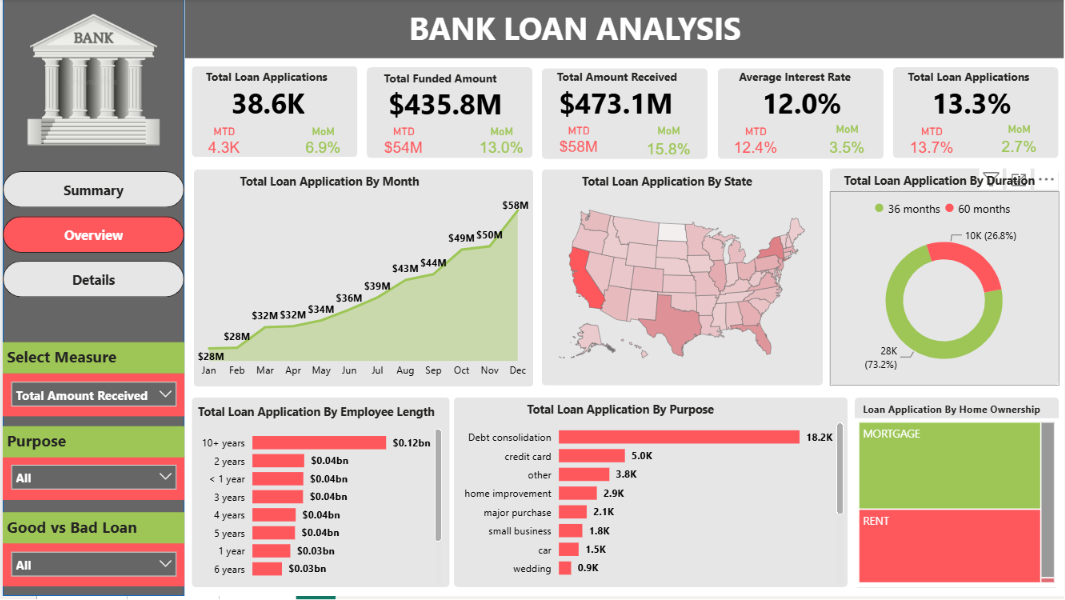

The page's visual inventory and layout, read from the dashboard file:
{"tool":"powerbi","page":{"name":"Overview","canvas":[1280,720],"ordinal":1},"visuals":[{"type":"shape","box":[0,0,219.3,719.9],"z":0},{"type":"shape","box":[219.6,0,1060.5,71.2],"z":1000},{"type":"textbox","box":[485,4.8,439.1,60.3],"z":2000},{"type":"shape","box":[228,80.8,200,109.8],"z":3000},{"type":"cardVisual","fields":{"Data":["bank_project financial_loan.Total Loan Application"]},"box":[230.2,96.8,179.8,53.1],"z":4000},{"type":"textbox","box":[239.8,79.9,161.7,32.6],"z":5000},{"type":"cardVisual","title":"MTD","fields":{"Data":["bank_project financial_loan.MTD Loan Application"]},"box":[230.4,152,73.6,38.6],"z":6000},{"type":"shape","box":[439.4,82,200,109.8],"z":7000},{"type":"shape","box":[650.9,83.2,200,109.8],"z":8000},{"type":"shape","box":[1073.7,82,200,109.8],"z":9000},{"type":"shape","box":[862.3,83.7,200,109.6],"z":10000},{"type":"cardVisual","title":"MoM","fields":{"Data":["bank_project financial_loan.MoM Loan Application"]},"box":[345,152,83.2,38.6],"z":11000},{"type":"cardVisual","fields":{"Data":["bank_project financial_loan.Total Funded Amount"]},"box":[439.1,97.7,189.4,53.1],"z":12000},{"type":"textbox","box":[455.4,81.2,161.7,32.6],"z":13000},{"type":"cardVisual","title":"MTD","fields":{"Data":["bank_project financial_loan.MTD Funded Amount"]},"box":[441.6,152,84.5,38.6],"z":14000},{"type":"cardVisual","title":"MoM","fields":{"Data":["bank_project financial_loan.MoM Total Funded Ratio"]},"box":[553.8,152,96.5,38.6],"z":15000},{"type":"cardVisual","fields":{"Data":["bank_project financial_loan.Total Payment Received"]},"box":[653.9,96.5,171.3,53.1],"z":16000},{"type":"textbox","box":[663.9,80.2,161.7,32.6],"z":17000},{"type":"cardVisual","title":"MTD","fields":{"Data":["bank_project financial_loan.MTD Total Amount Received"]},"box":[650.3,150.8,89.3,38.6],"z":18000},{"type":"cardVisual","title":"MoM","fields":{"Data":["bank_project financial_loan.MoM Payment Received Ratio"]},"box":[756.4,150.8,94.1,43.4],"z":19000},{"type":"cardVisual","fields":{"Data":["bank_project financial_loan.Average Amount Ratio"]},"box":[863.8,96.5,200.3,53.1],"z":20000},{"type":"textbox","box":[883.1,79.6,161.7,32.6],"z":21000},{"type":"cardVisual","title":"MTD","fields":{"Data":["bank_project financial_loan.MTD Avg Interest Rate"]},"box":[863.8,152,89.3,38.6],"z":22000},{"type":"cardVisual","title":"MoM","fields":{"Data":["bank_project financial_loan.MoM Avg Interest"]},"box":[973.6,149.6,90.5,43.4],"z":23000},{"type":"cardVisual","fields":{"Data":["bank_project financial_loan.Avg DTI"]},"box":[1073.7,96.5,190.6,53.1],"z":24000},{"type":"textbox","box":[1086.6,79.2,161.7,32.6],"z":25000},{"type":"cardVisual","title":"MTD","fields":{"Data":["bank_project financial_loan.MTD Avg DTI"]},"box":[1073.7,152,94.1,39.8],"z":26000},{"type":"cardVisual","title":"MoM","fields":{"Data":["bank_project financial_loan.MoM Avg DTI"]},"box":[1178.7,149.6,95.3,42.2],"z":27000},{"type":"shape","box":[230.8,204.9,409.7,262.6],"z":28000},{"type":"shape","box":[650.7,204.9,339,261.1],"z":29000},{"type":"textbox","box":[281.1,205.1,272.7,32.6],"z":30000},{"type":"areaChart","fields":{"Y":["bank_project financial_loan.Total Loan Application"],"Category":["Table Colender.Months"]},"box":[230.8,230.8,409.7,235.2],"z":31000},{"type":"textbox","box":[693.7,205.1,252.1,32.6],"z":32000},{"type":"shape","box":[228,480.2,311.3,229.2],"z":33000},{"type":"slicer","fields":{"Values":["bank_project financial_loan.purpose"]},"box":[0,551.3,219.6,53.1],"z":34000},{"type":"slicer","fields":{"Values":["bank_project financial_loan.Good vs Bad Loan"]},"box":[0,656.3,219.6,51.9],"z":35000},{"type":"textbox","box":[0,515.2,219.6,37.4],"z":36000},{"type":"textbox","box":[0,618.9,219.6,37.4],"z":37000},{"type":"slicer","fields":{"Values":["Select Measure.Select Measure"]},"box":[0,451.2,219.6,51.9],"z":38000},{"type":"image","box":[7.2,13.3,205.1,167.7],"z":39000},{"type":"textbox","box":[0,413.8,219.6,37.4],"z":40000},{"type":"shapeMap","fields":{"Value":["bank_project financial_loan.Total Loan Application"],"Category":["bank_project financial_loan.address_state"]},"box":[650.3,222,339,243.7],"z":41000},{"type":"shape","box":[997.7,203.9,276.3,261.8],"z":42000},{"type":"donutChart","fields":{"Category":["bank_project financial_loan.term"],"Y":["bank_project financial_loan.Total Loan Application"]},"box":[997.7,231.6,276.3,234],"z":43000},{"type":"textbox","box":[1009.8,203.9,252.1,32.6],"z":44000},{"type":"shape","box":[544.1,480.2,475.3,229.2],"z":45000},{"type":"shape","box":[1027.9,480.2,246.1,230.4],"z":46000},{"type":"barChart","fields":{"Y":["bank_project financial_loan.Total Funded Amount"],"Category":["bank_project financial_loan.emp_length"]},"box":[230.4,505.5,304,205.1],"z":47000},{"type":"textbox","box":[230.4,482.6,308.8,32.6],"z":48000},{"type":"barChart","fields":{"Y":["bank_project financial_loan.Total Loan Application"],"Category":["bank_project financial_loan.purpose"]},"box":[544.1,498.3,475.3,212.3],"z":49000},{"type":"treemap","fields":{"Values":["bank_project financial_loan.Total Loan Application"],"Group":["bank_project financial_loan.home_ownership"]},"box":[1027.9,505.5,246.1,203.9],"z":50000},{"type":"textbox","box":[1032.7,480.2,236.5,31.4],"z":51000},{"type":"textbox","box":[627.3,480.2,308.8,32.6],"z":52000},{"type":"pageNavigator","box":[0,207.5,219.6,152],"z":53000}]}

Visuals, with their boxes in screenshot pixels (x1, y1, x2, y2), scaled from the page's 1280x720 canvas onto the 1065x600 screenshot:
shape: [0,0,182,599]
shape: [183,0,1064,59]
textbox: [404,4,769,54]
shape: [190,67,356,159]
cardVisual - bank_project financial_loan.Total Loan Application: [192,81,341,125]
textbox: [200,67,334,94]
"MTD" cardVisual: [192,127,253,159]
shape: [366,68,532,160]
shape: [542,69,708,161]
shape: [893,68,1060,160]
shape: [717,70,884,161]
"MoM" cardVisual: [287,127,356,159]
cardVisual - bank_project financial_loan.Total Funded Amount: [365,81,523,126]
textbox: [379,68,513,95]
"MTD" cardVisual: [367,127,438,159]
"MoM" cardVisual: [461,127,541,159]
cardVisual - bank_project financial_loan.Total Payment Received: [544,80,687,125]
textbox: [552,67,687,94]
"MTD" cardVisual: [541,126,615,158]
"MoM" cardVisual: [629,126,708,162]
cardVisual - bank_project financial_loan.Average Amount Ratio: [719,80,885,125]
textbox: [735,66,869,94]
"MTD" cardVisual: [719,127,793,159]
"MoM" cardVisual: [810,125,885,161]
cardVisual - bank_project financial_loan.Avg DTI: [893,80,1052,125]
textbox: [904,66,1039,93]
"MTD" cardVisual: [893,127,972,160]
"MoM" cardVisual: [981,125,1060,160]
shape: [192,171,533,390]
shape: [541,171,823,388]
textbox: [234,171,461,198]
areaChart - bank_project financial_loan.Total Loan Application x Table Colender.Months: [192,192,533,388]
textbox: [577,171,787,198]
shape: [190,400,449,591]
slicer - bank_project financial_loan.purpose: [0,459,183,504]
slicer - bank_project financial_loan.Good vs Bad Loan: [0,547,183,590]
textbox: [0,429,183,461]
textbox: [0,516,183,547]
slicer - Select Measure.Select Measure: [0,376,183,419]
image: [6,11,177,151]
textbox: [0,345,183,376]
shapeMap - bank_project financial_loan.Total Loan Application x bank_project financial_loan.address_state: [541,185,823,388]
shape: [830,170,1060,388]
donutChart - bank_project financial_loan.term x bank_project financial_loan.Total Loan Application: [830,193,1060,388]
textbox: [840,170,1050,197]
shape: [453,400,848,591]
shape: [855,400,1060,592]
barChart - bank_project financial_loan.Total Funded Amount x bank_project financial_loan.emp_length: [192,421,445,592]
textbox: [192,402,449,429]
barChart - bank_project financial_loan.Total Loan Application x bank_project financial_loan.purpose: [453,415,848,592]
treemap - bank_project financial_loan.Total Loan Application x bank_project financial_loan.home_ownership: [855,421,1060,591]
textbox: [859,400,1056,426]
textbox: [522,400,779,427]
pageNavigator: [0,173,183,300]
